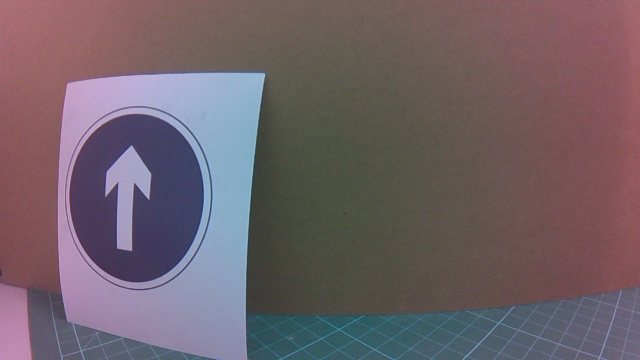forward: (65, 97, 248, 303)
